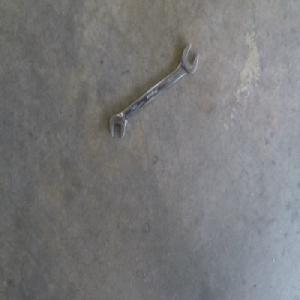Wrench: (112, 44, 202, 139)
